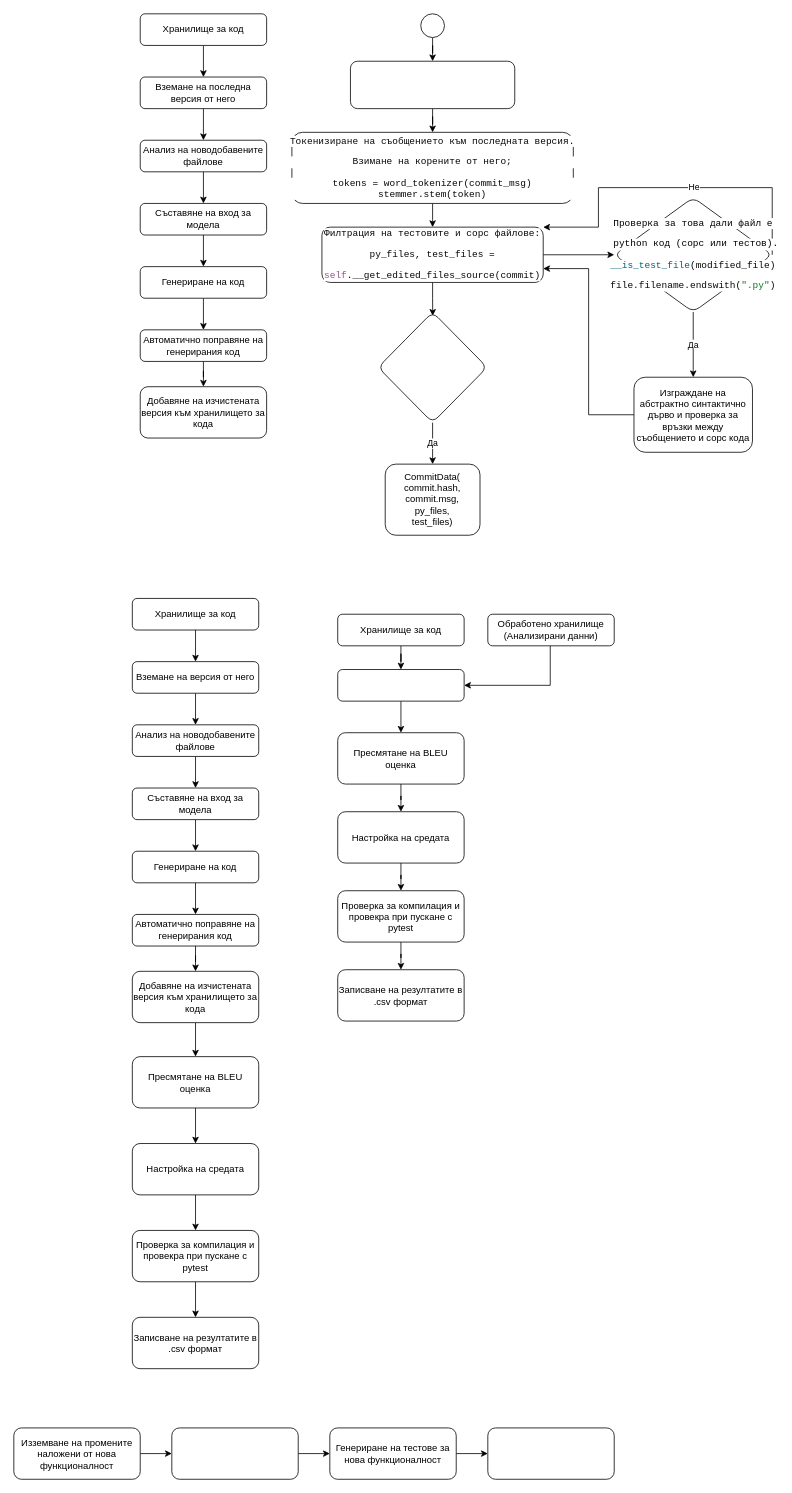
Some shapes in this 792 by 1493 pixel diagram are drawn without their labels. The box of each missing label's shape, as (x1, y1, x2, y2) in pixels:
Анализ на последната версия process_commit(commit): (350, 60, 515, 109)
Анализ на промените: (171, 1427, 298, 1479)
Избор на клони за оценка (branches): (337, 669, 464, 701)
Поправка на генерирания код: (487, 1427, 614, 1479)
Съществуват ли тестови и/или сорс файлове: (377, 311, 487, 423)
